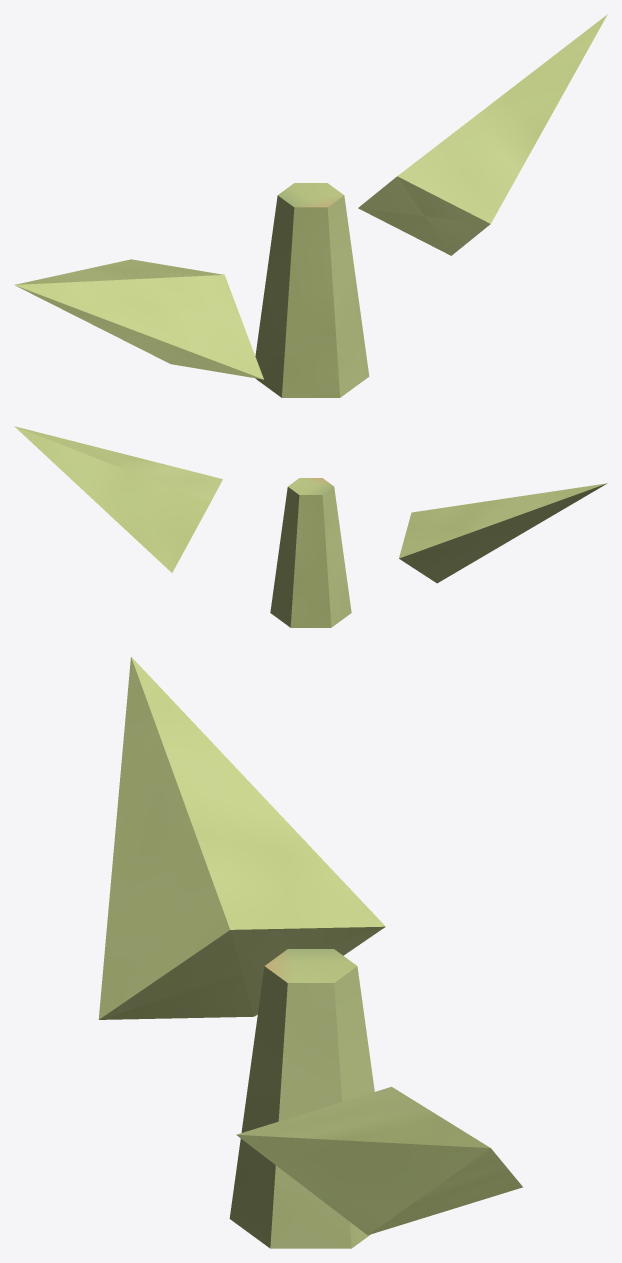
File: sm_crop_pumpkin_1.glb
3 renders of one model, top to bottom at view 1: azimuth 30°, elevation 25°; view 2: azimuth 150°, elevation 25°; view 3: azimuth 270°, elevation 25°, orthographic. The views are drawn at different scales.
Parts seen in each view (by area): view 1: sm_crop_pumpkin_1; view 2: sm_crop_pumpkin_1; view 3: sm_crop_pumpkin_1.
Boxes of the visible parts, x1,y1,x2,y2 form: sm_crop_pumpkin_1: [14, 14, 607, 397]; sm_crop_pumpkin_1: [14, 426, 607, 627]; sm_crop_pumpkin_1: [98, 657, 522, 1248].
Bounding box in the file's own units: 0.1502 × 0.0451 × 0.0548.
1 material, 1 textured.
